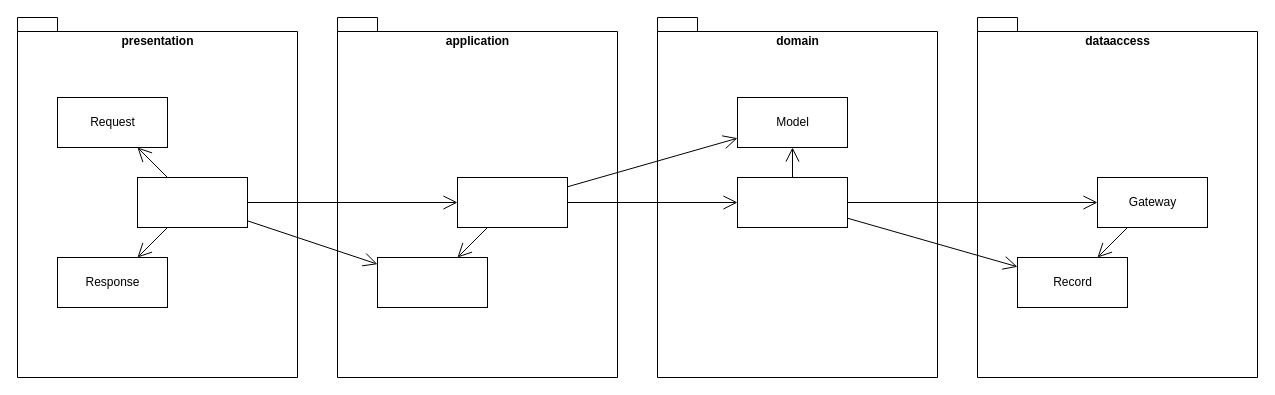
The diagram is 1275 pixels wide and 395 high, and some of its shapes have lost their labels. The centre of each missing label's shape, as x and y in pixels:
"Output" goes at point 432,282.
"Repository" goes at point 792,202.
"Router" goes at point 192,202.
"Service" goes at point 512,202.
